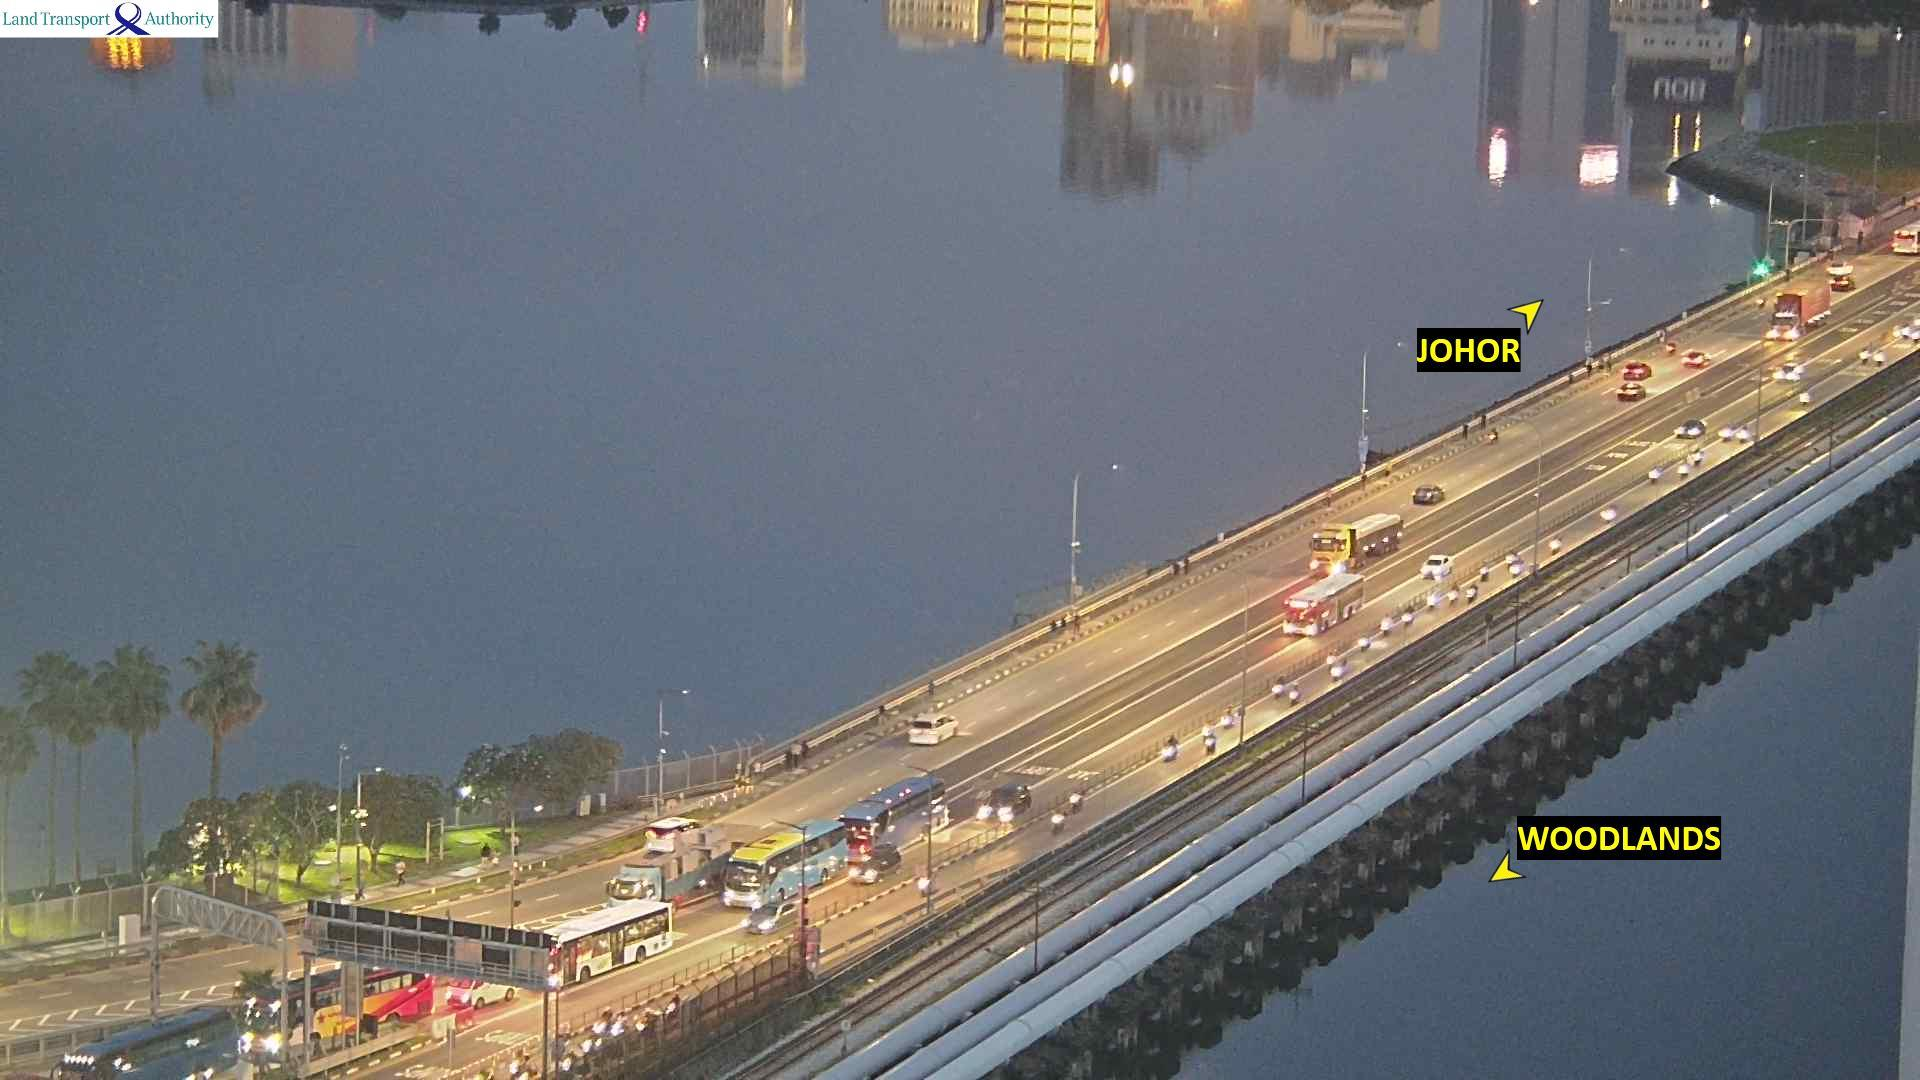vehicle-causeway-johor: (647, 818, 703, 853), (910, 712, 959, 744), (1894, 220, 1920, 255), (1414, 484, 1444, 505), (1623, 361, 1650, 381), (1617, 384, 1644, 402), (1683, 352, 1710, 369), (1828, 261, 1854, 276), (1830, 278, 1855, 290), (1756, 294, 1767, 307), (1489, 427, 1497, 442), (1667, 342, 1675, 352)
vehicle-causeway-singapore: (240, 969, 433, 1062), (547, 901, 671, 989), (837, 778, 942, 862), (611, 851, 725, 902), (1309, 512, 1400, 576), (1282, 571, 1367, 640), (1768, 276, 1830, 342), (977, 785, 1031, 825), (444, 977, 517, 1005), (745, 902, 799, 934), (852, 849, 901, 884), (1420, 553, 1452, 580), (1672, 419, 1705, 440), (592, 1006, 615, 1036), (1775, 365, 1803, 385), (1160, 733, 1179, 758), (520, 1054, 537, 1080), (508, 1050, 522, 1077), (918, 868, 932, 894), (1331, 659, 1346, 683), (1271, 674, 1286, 698), (1288, 683, 1302, 708), (1447, 582, 1461, 604), (1505, 547, 1522, 566), (1600, 505, 1617, 524), (1400, 605, 1416, 625), (1737, 422, 1751, 443), (1324, 647, 1340, 666), (1718, 422, 1734, 439), (1051, 808, 1063, 829), (1379, 613, 1391, 634), (1466, 582, 1478, 603), (1549, 534, 1561, 555), (1689, 447, 1705, 463), (1858, 345, 1871, 364), (1204, 738, 1216, 758), (1647, 464, 1660, 481), (1071, 791, 1081, 812), (1358, 633, 1370, 651), (1874, 349, 1887, 365), (1428, 587, 1437, 608), (1510, 564, 1523, 579), (1480, 564, 1489, 580), (1800, 390, 1811, 404), (1677, 464, 1685, 481)
